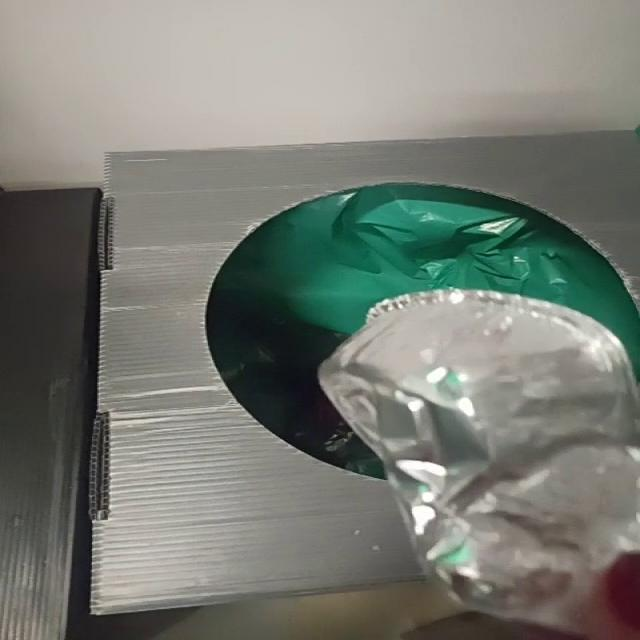Bin: (91, 132, 639, 616)
Metal: (319, 289, 639, 638)
